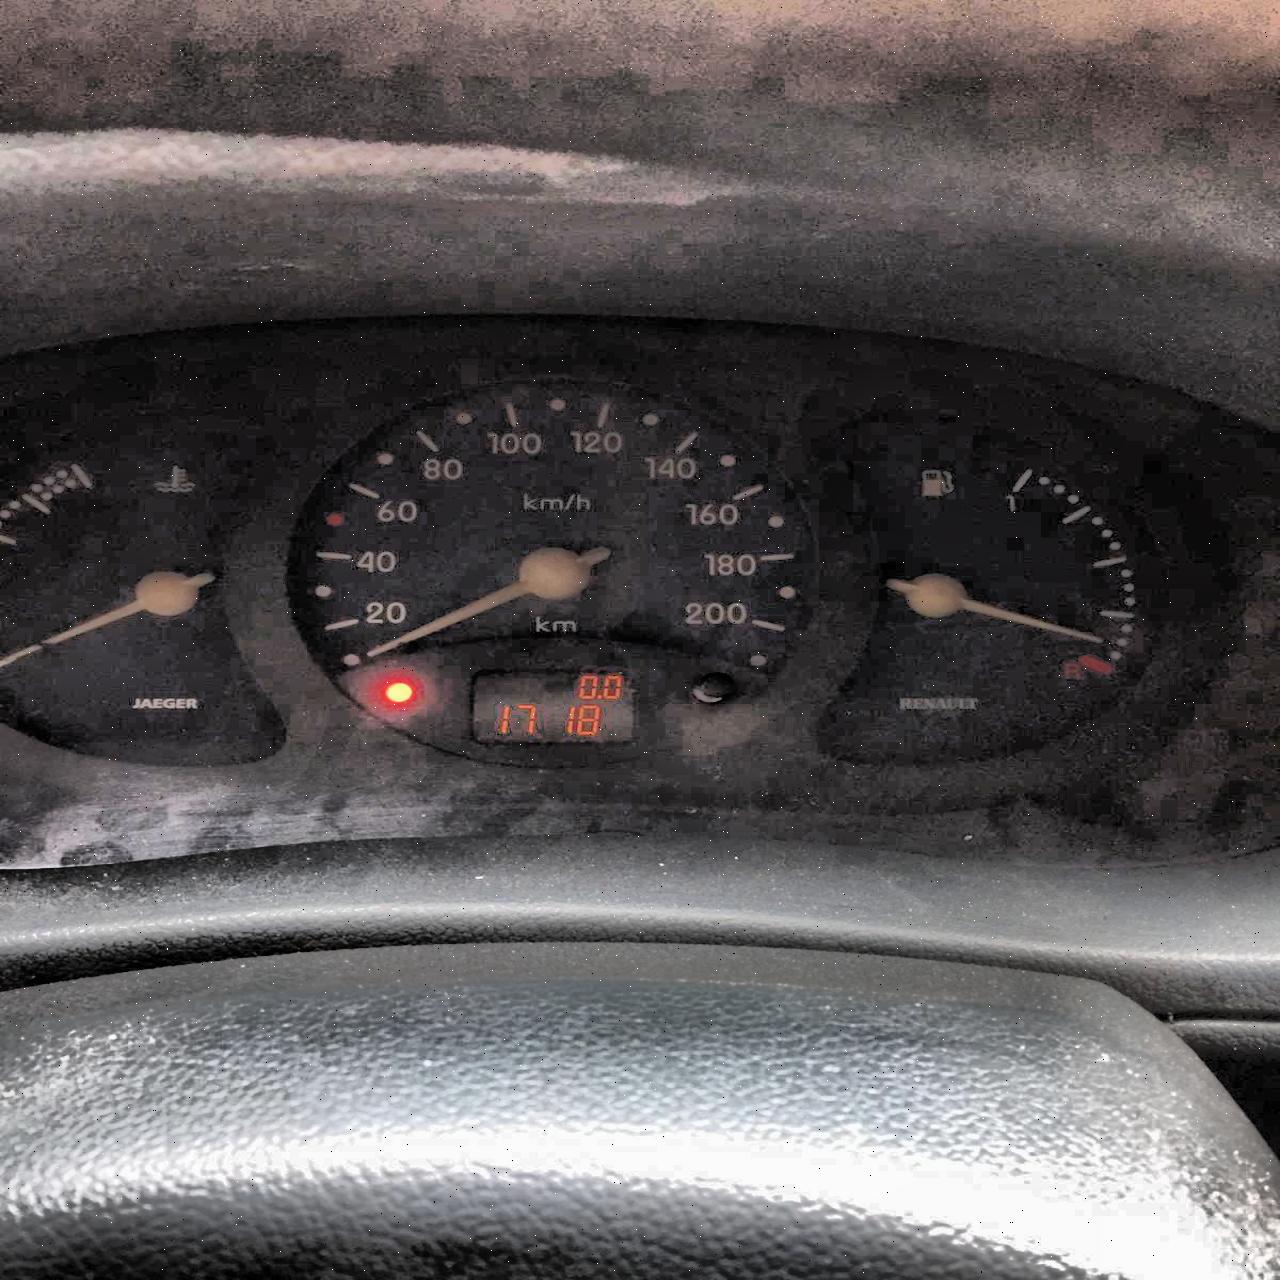-: (597, 694, 601, 700)
0: (578, 674, 597, 700), (601, 674, 620, 700)
1: (499, 704, 510, 733), (565, 706, 574, 734)
7: (516, 704, 536, 734)
8: (574, 703, 599, 734)
odometer: (467, 666, 638, 747)
